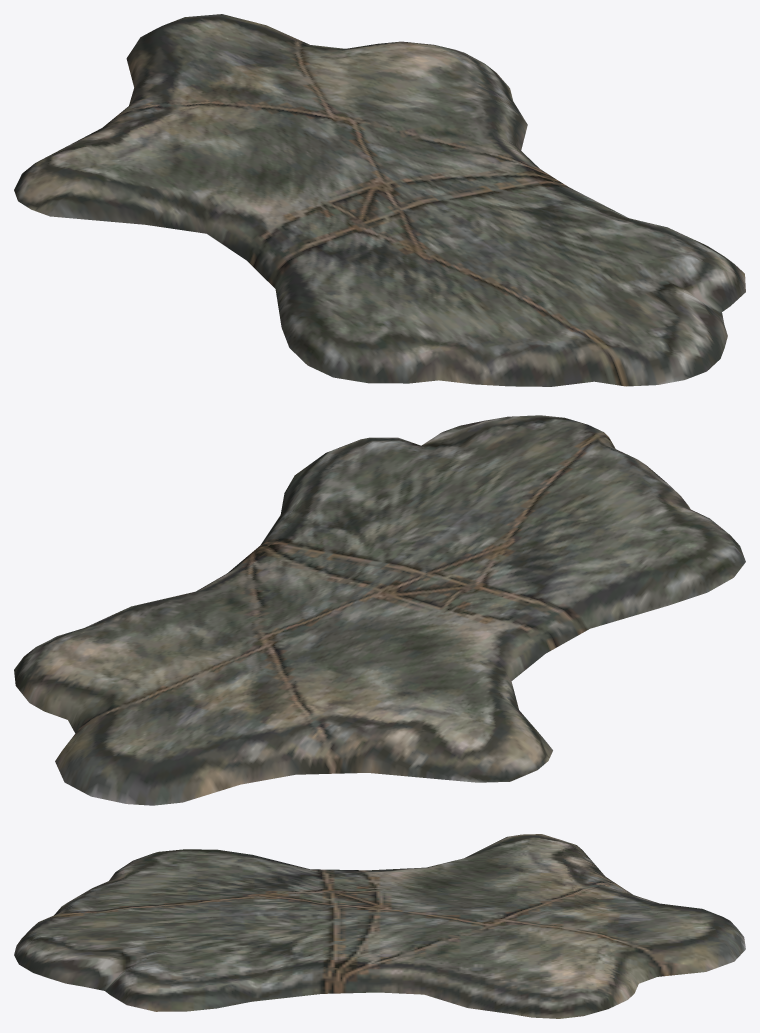
Rendered from con_gen_organic_hide_wooly_l0.fbx.
3 renders of one model, top to bottom at view 1: azimuth 30°, elevation 25°; view 2: azimuth 150°, elevation 25°; view 3: azimuth 270°, elevation 25°, orthographic. The views are drawn at different scales.
Parts seen in each view (by area): view 1: mesh_node; view 2: mesh_node; view 3: mesh_node.
Part boxes in pixels (x1,y1,x2,y2): mesh_node: [14, 14, 745, 386]; mesh_node: [14, 415, 745, 805]; mesh_node: [14, 834, 745, 1018].
Size of the model in its own units: 1.17 by 0.0844 by 2.
